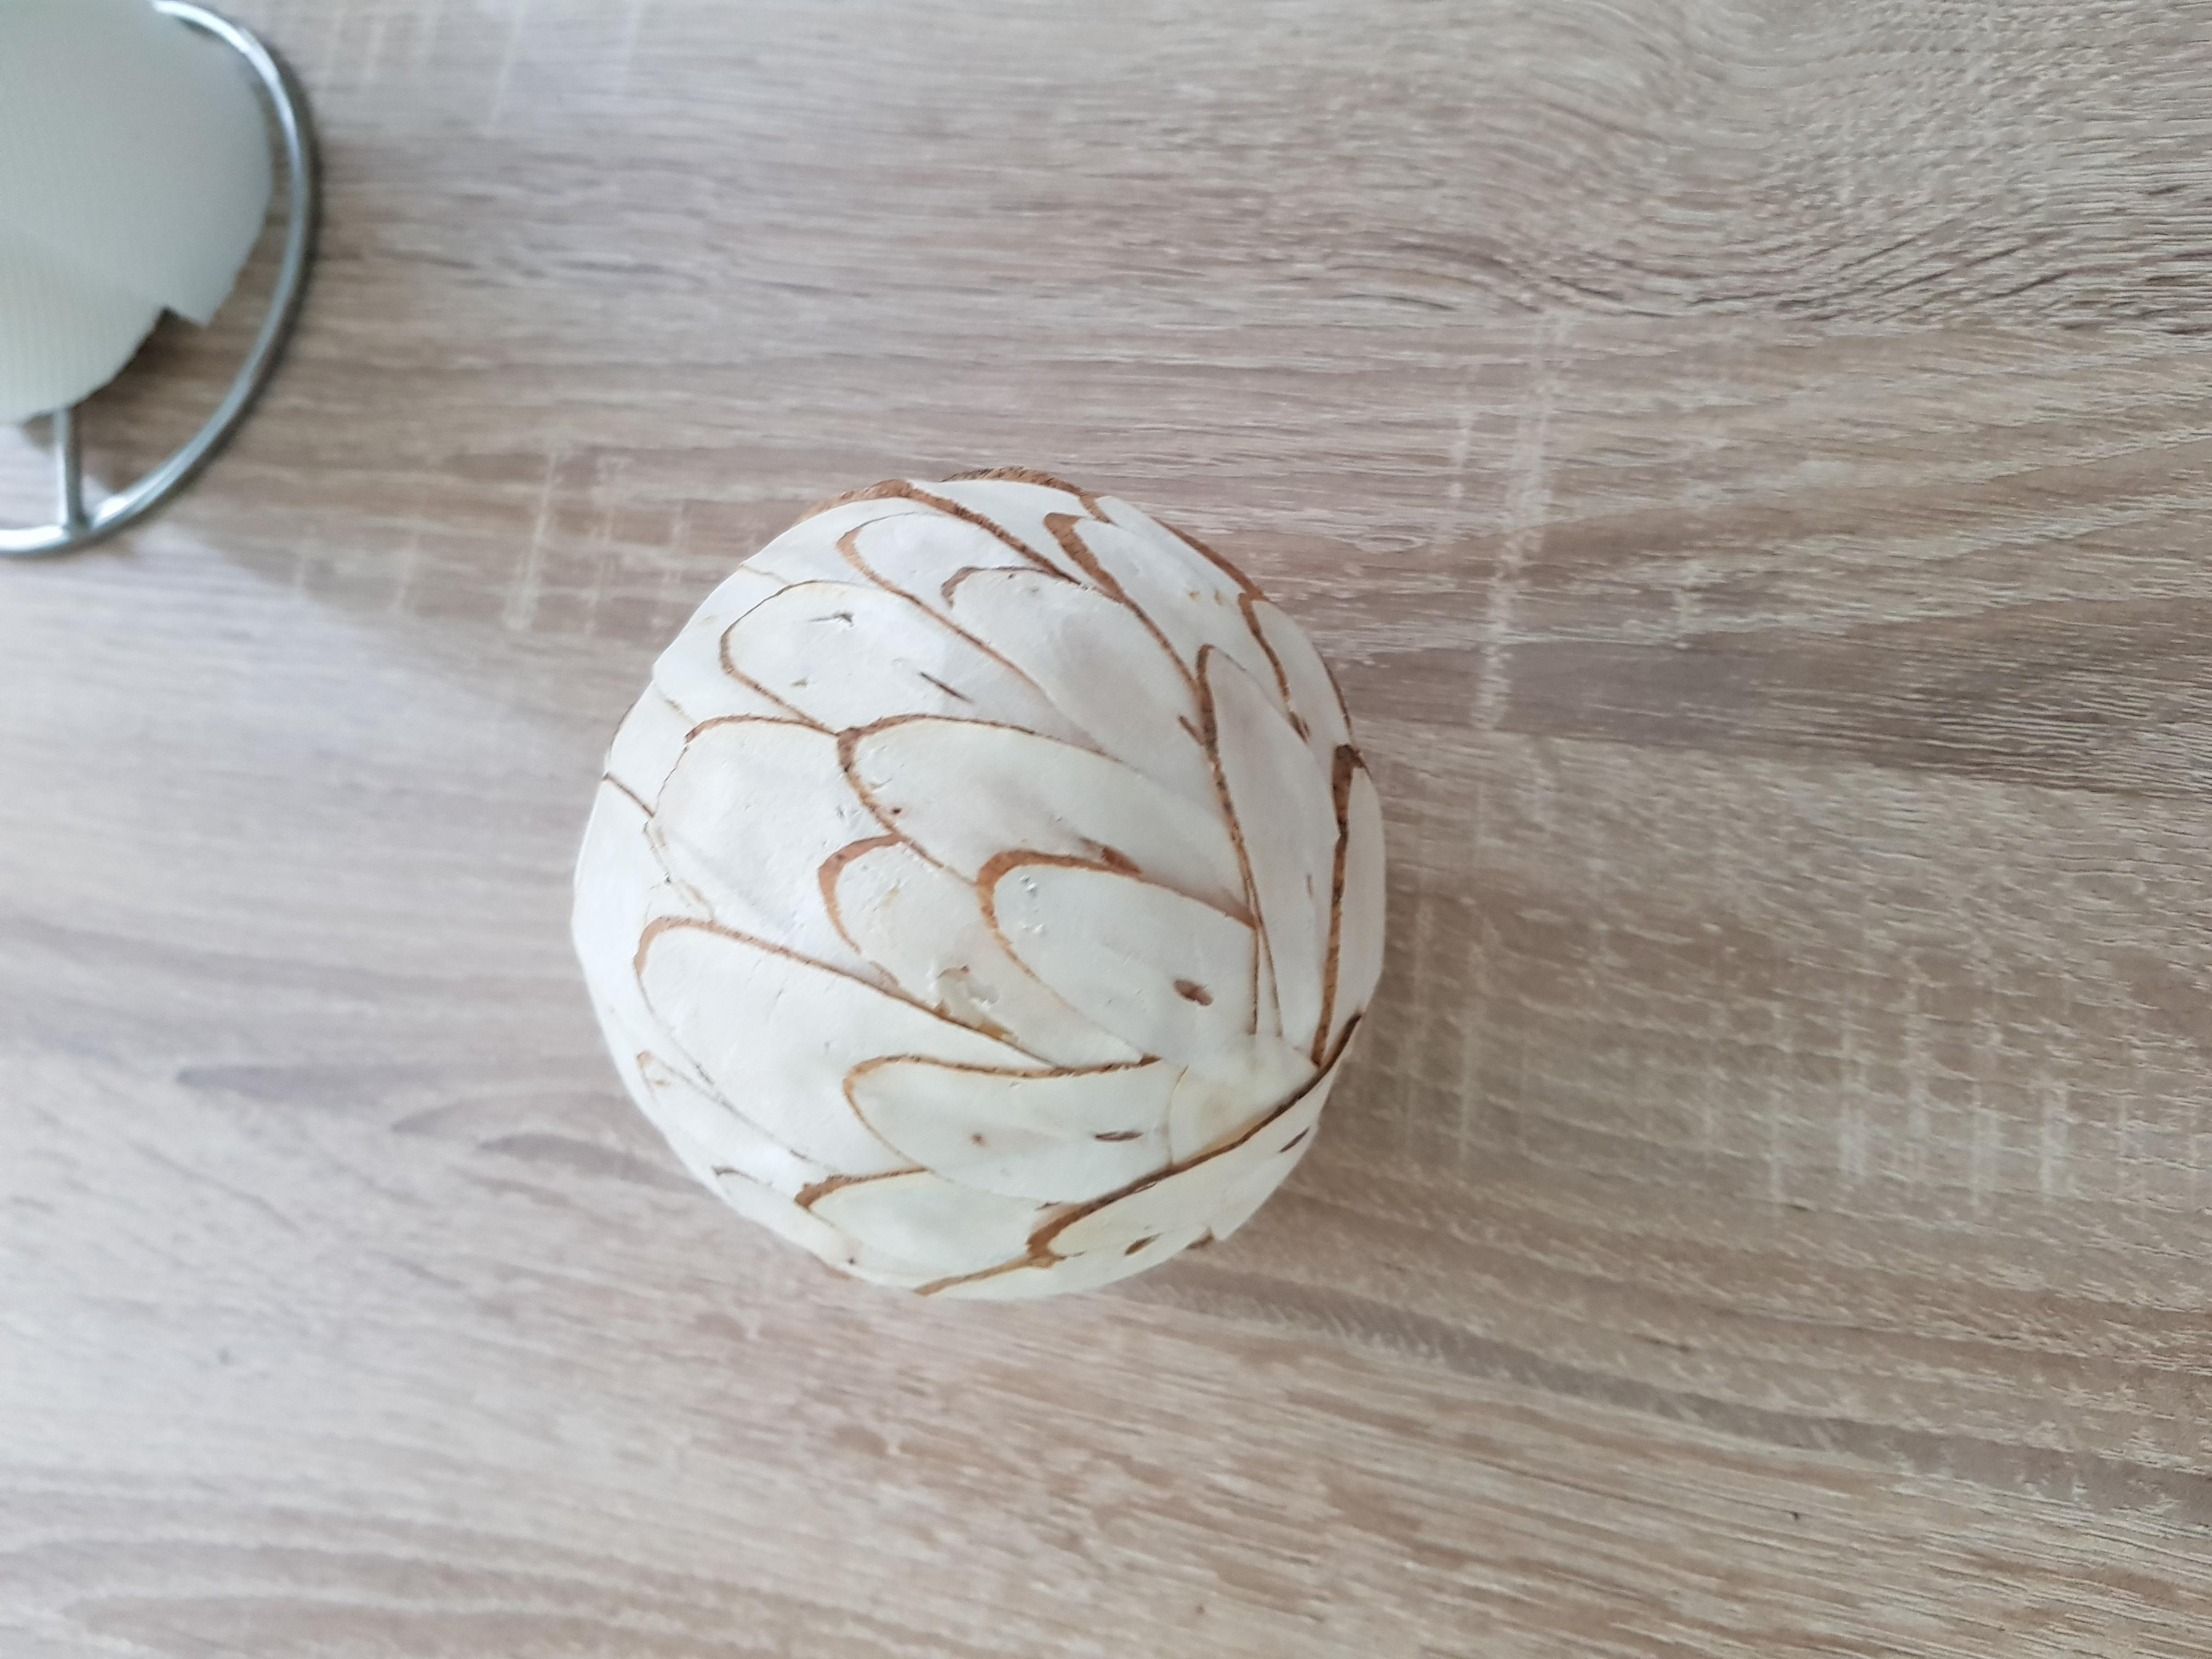sphere: (557, 464, 1400, 1314)
